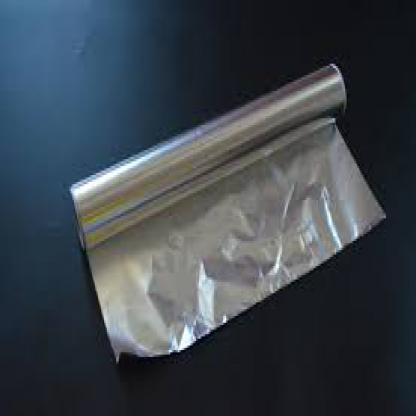METAL: (68, 62, 386, 362)
